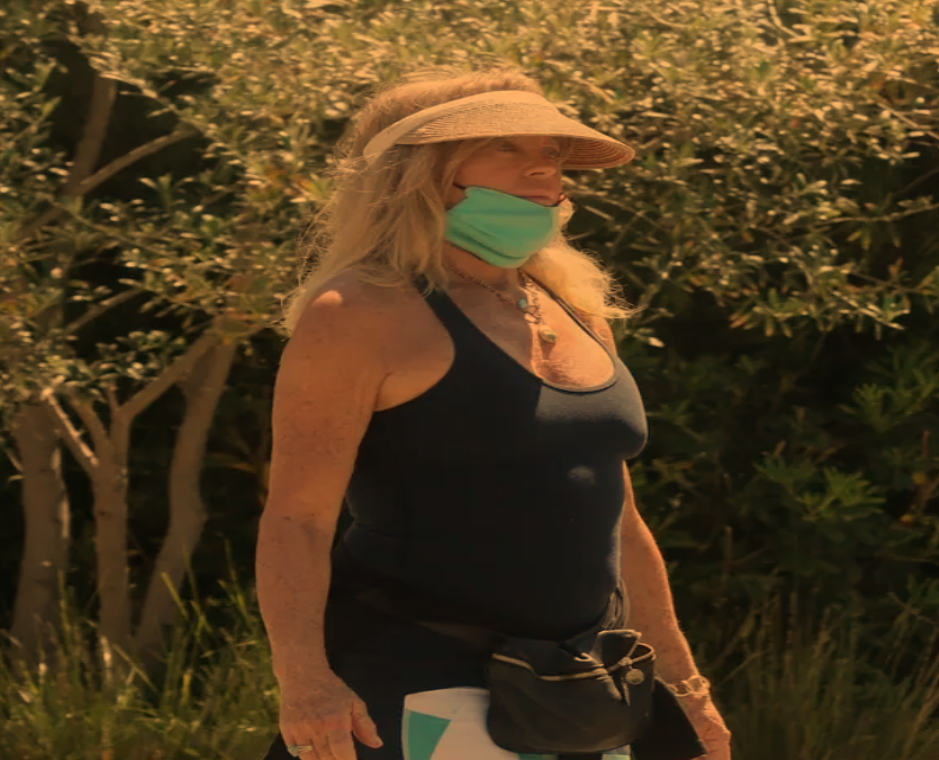mask_weared_incorrect: (347, 72, 620, 275)
